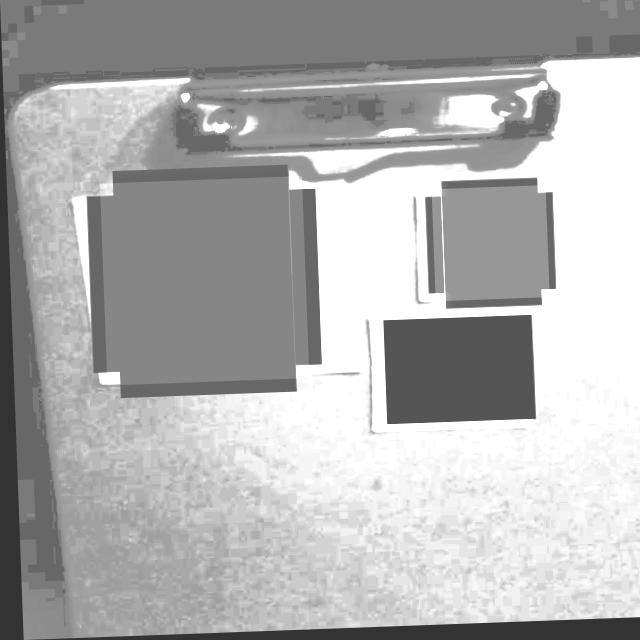qr_code: (98, 178, 306, 386), (380, 319, 533, 427), (430, 189, 547, 305)
